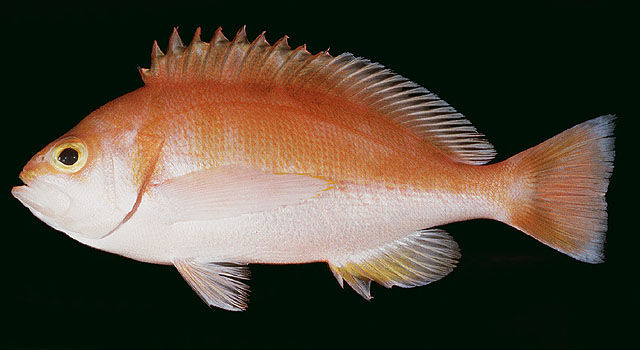fish: (11, 26, 618, 314)
